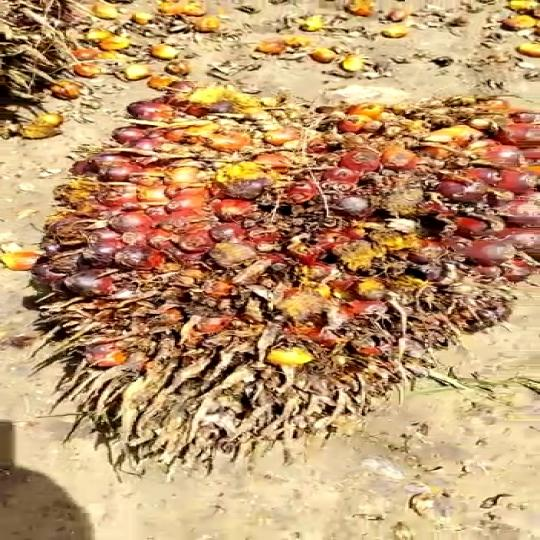masak: (41, 86, 540, 468)
